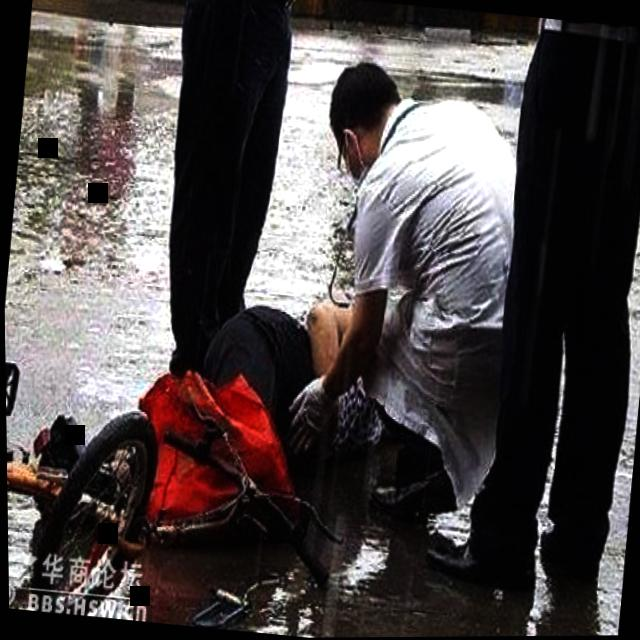Fall-Detected: (157, 263, 397, 501)
